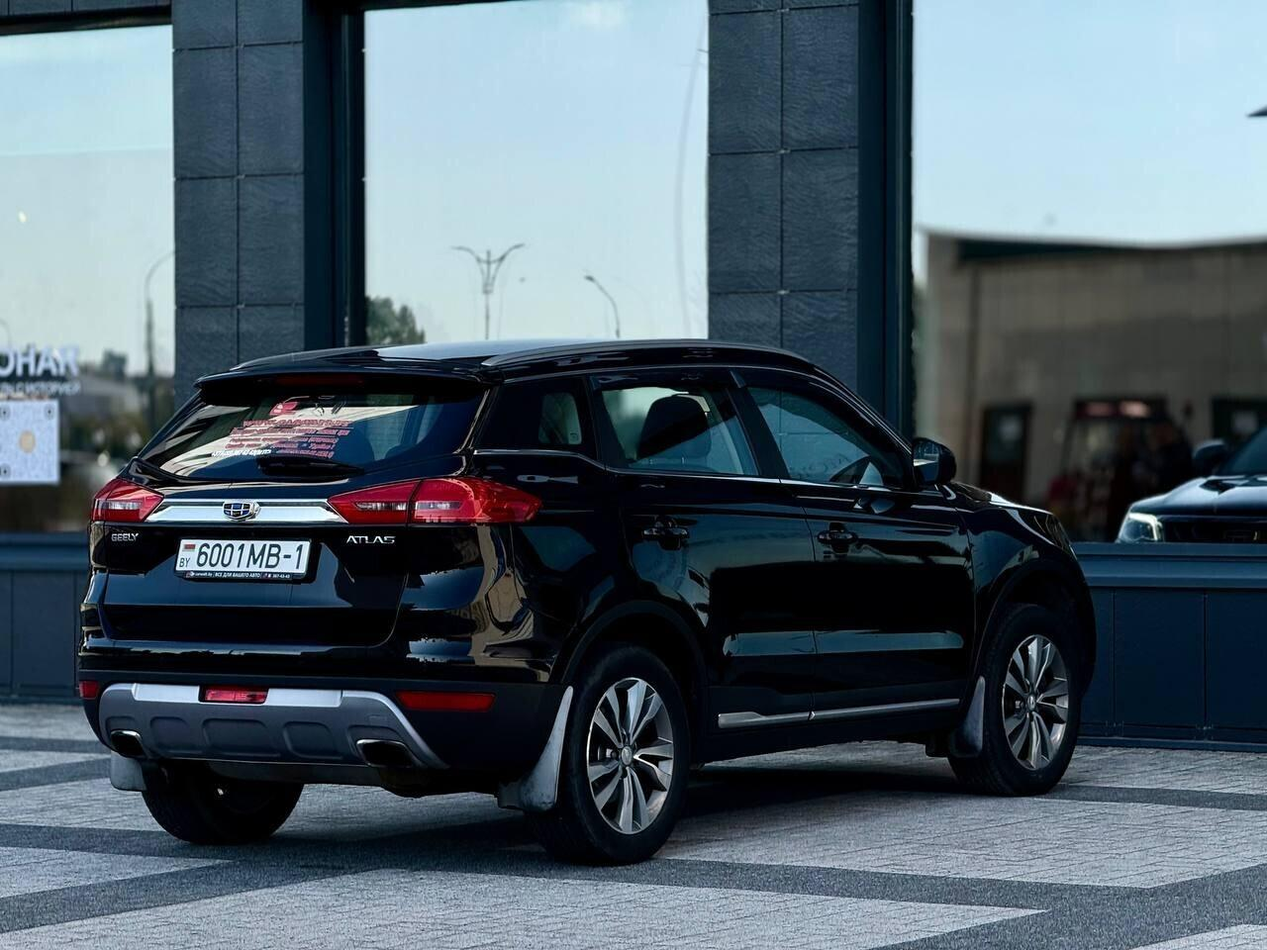Atlas_2016-2023: (72, 335, 1096, 871)
